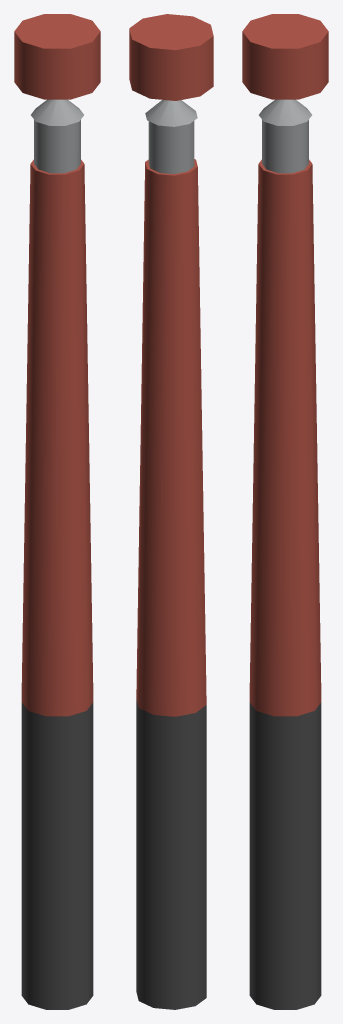
Rendered from buoy-spar-red.glb.
3 renders of one model, left to right at view 1: azimuth 90°, elevation 25°; view 2: azimuth 150°, elevation 25°; view 3: azimuth 270°, elevation 25°, orthographic.
Visible parts, largest first — view 1: buoy-spar-red; view 2: buoy-spar-red; view 3: buoy-spar-red.
Part boxes in pixels (x1,y1,x2,y2): buoy-spar-red: [14, 14, 100, 1009]; buoy-spar-red: [129, 14, 213, 1009]; buoy-spar-red: [242, 14, 328, 1009].
Bounding box in the file's own units: 0.4565 × 5.91 × 0.48.
